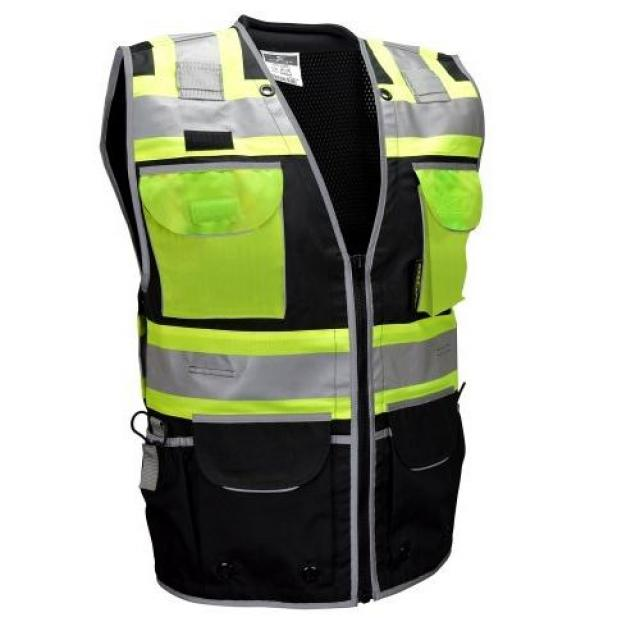Reflective-Jacket: (84, 0, 518, 627)
